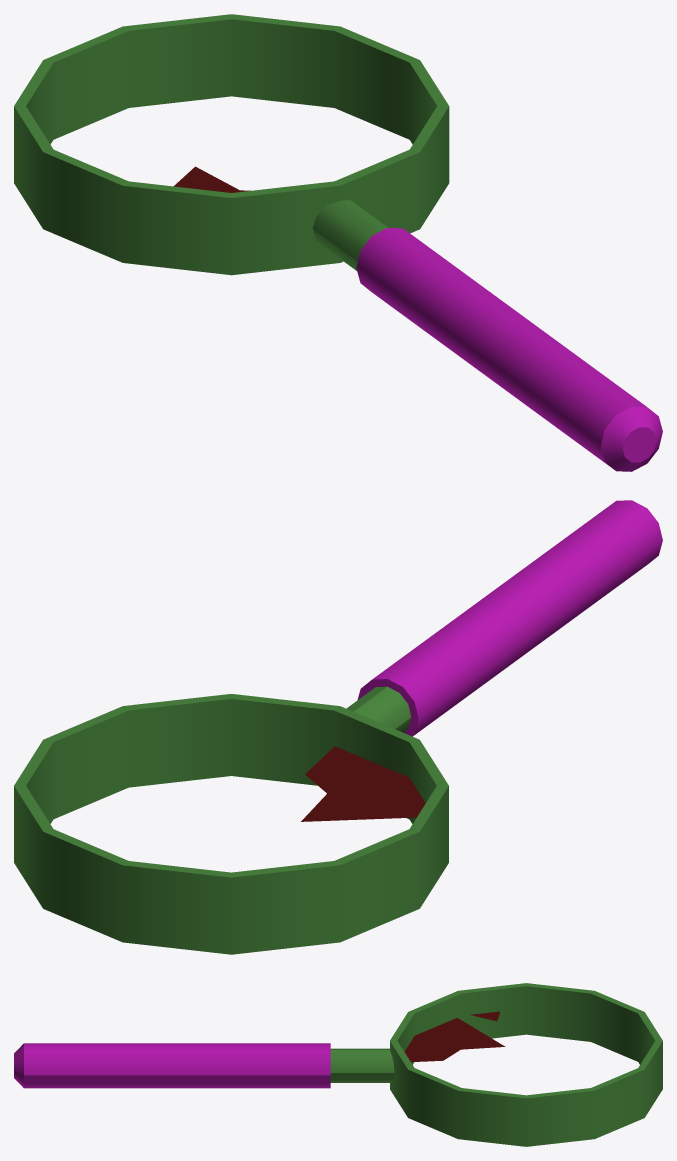
Rendered from Magnifier.fbx.
3 views of the same model, one above another, from view 1: azimuth 30°, elevation 25°; view 2: azimuth 150°, elevation 25°; view 3: azimuth 270°, elevation 25° (orthographic). The views are drawn at different scales.
Parts seen in each view (by area): view 1: Cylinder001; view 2: Cylinder001; view 3: Cylinder001.
Part boxes in pixels (x1=…): Cylinder001: x1=14, y1=14, x2=662, y2=471; Cylinder001: x1=14, y1=500, x2=662, y2=954; Cylinder001: x1=14, y1=983, x2=662, y2=1146.
Size of the model in its own units: 65.01 by 154 by 12.72.
